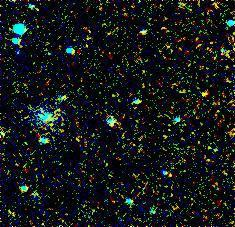star: (189, 76, 219, 106)
